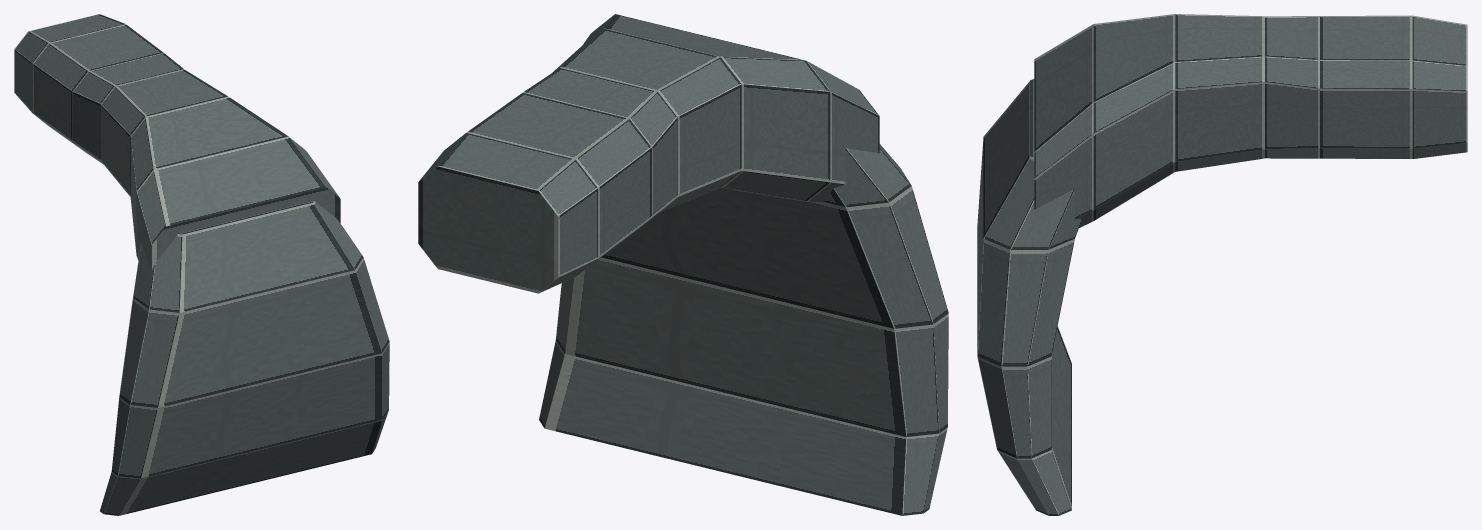
The model's file is workpiece_forged_hoe_shaped.obj.
3 renders of one model, left to right at view 1: azimuth 30°, elevation 25°; view 2: azimuth 150°, elevation 25°; view 3: azimuth 270°, elevation 25°, orthographic. The views are drawn at different scales.
Visible parts, largest first — view 1: geometry; view 2: geometry; view 3: geometry.
Boxes of the visible parts, x1,y1,x2,y2 form: geometry: [14, 14, 389, 515]; geometry: [418, 14, 948, 515]; geometry: [977, 14, 1467, 515].
Size of the model in its own units: 0.3775 by 0.4469 by 0.4956.
